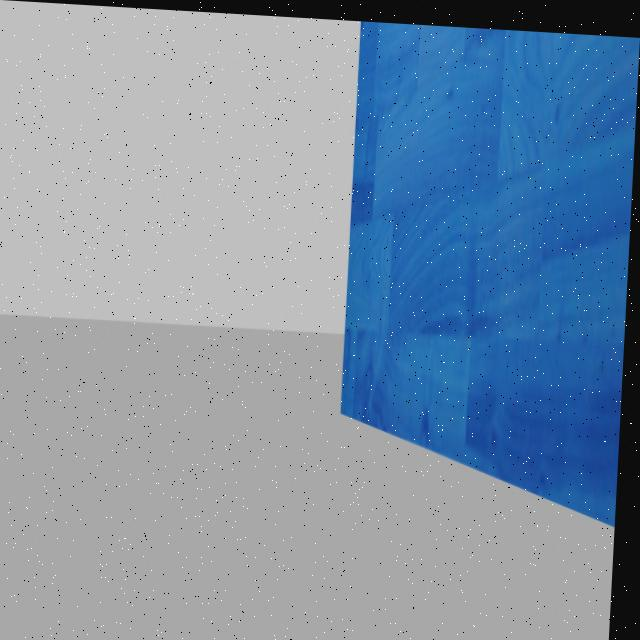shelf: (315, 16, 640, 559)
